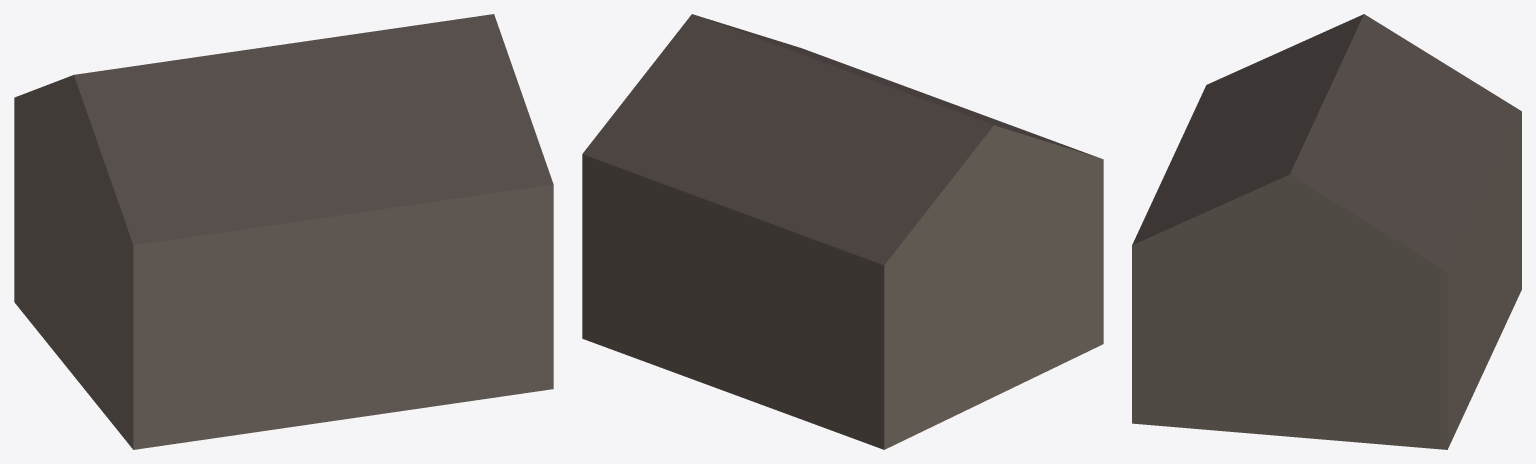
The picture shows the model from 3 angles, left to right: view 1: azimuth 30°, elevation 25°; view 2: azimuth 150°, elevation 25°; view 3: azimuth 270°, elevation 25°; orthographic projection. The views are drawn at different scales.
Parts seen in each view (by area): view 1: HP-w859082529; view 2: HP-w859082529; view 3: HP-w859082529.
Part boxes in pixels (x1,y1,x2,y2): HP-w859082529: [14, 14, 553, 449]; HP-w859082529: [582, 14, 1103, 449]; HP-w859082529: [1132, 14, 1521, 449].
Bounding box in the file's own units: 20.24 × 13.25 × 17.85.
